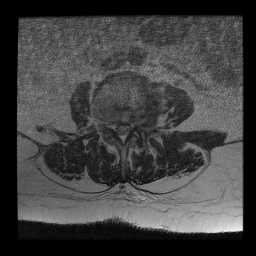CCS_normal: (120, 119, 125, 149)
LFS_stenosis: (131, 114, 138, 134)
LLS_normal: (125, 118, 131, 143)
RFS_stenosis: (107, 115, 114, 137)
RLS_normal: (114, 118, 120, 141)
